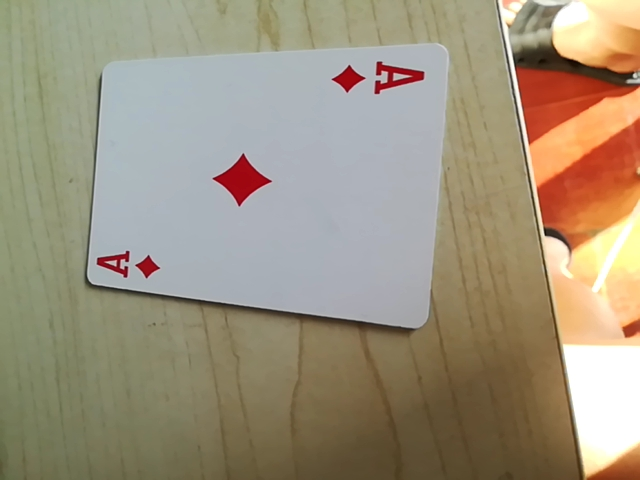fk a: (333, 56, 426, 102), (90, 242, 165, 289)
